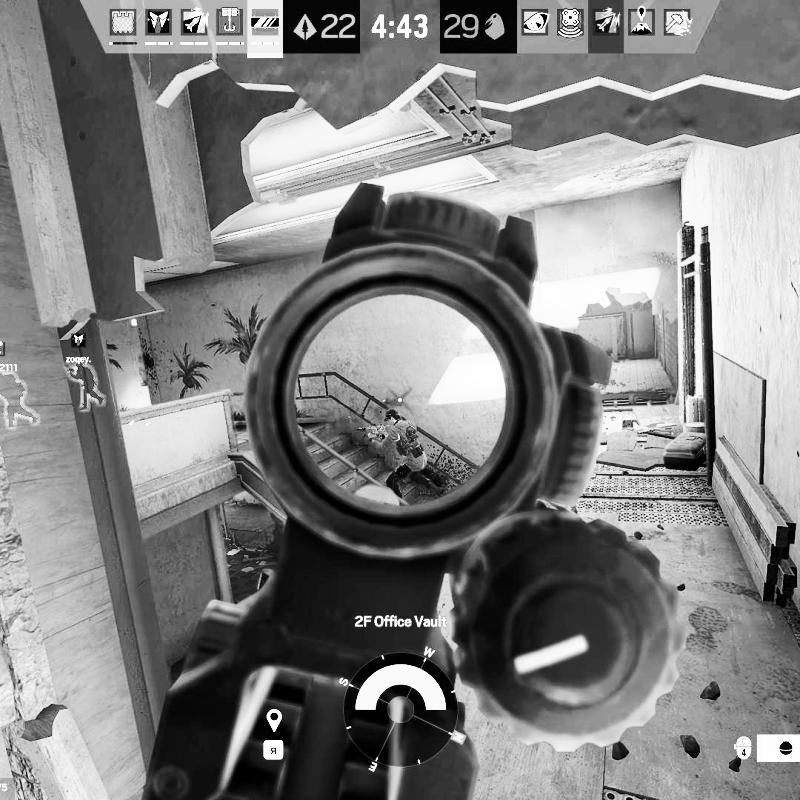Character: (356, 408, 445, 498)
Friend_label: (65, 330, 94, 365), (0, 339, 20, 374)
Head: (385, 409, 400, 424)
